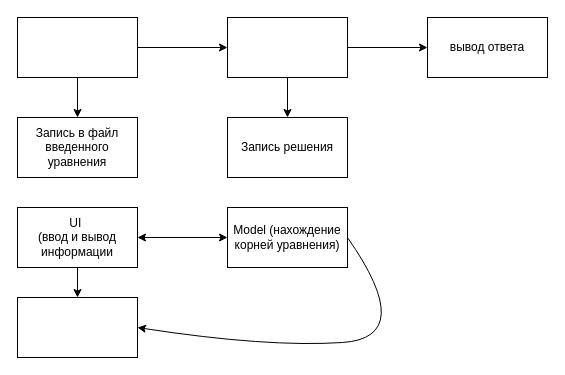
Image size: 565x375. Some labels were removed from this diagram. Here are the shapes that lost their labels. From the top down, the centre of each, then its label:
At point 77,47: "ввод от пользователя. Пример: x**2+4*x+4=0".
At point 287,47: "получение решения".
At point 77,327: "Logger (запись уравнения и его решения)".
